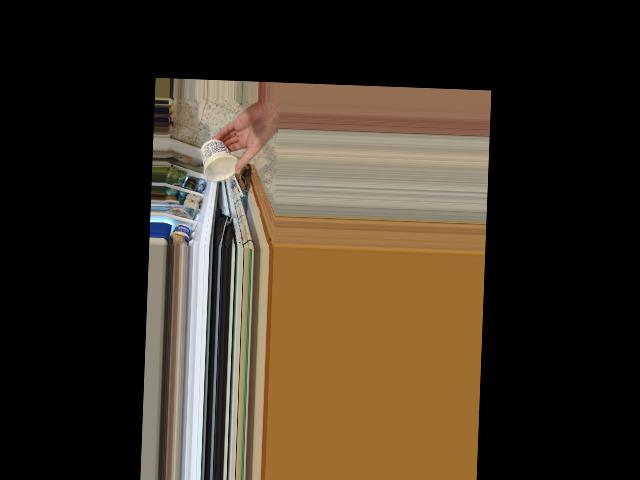cotage: (202, 136, 236, 182)
